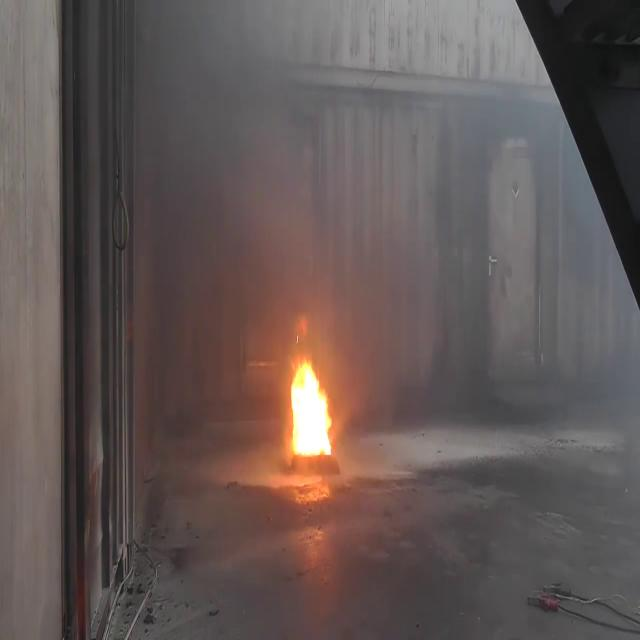Fire: (284, 346, 338, 466)
Smoke: (128, 0, 368, 351)
